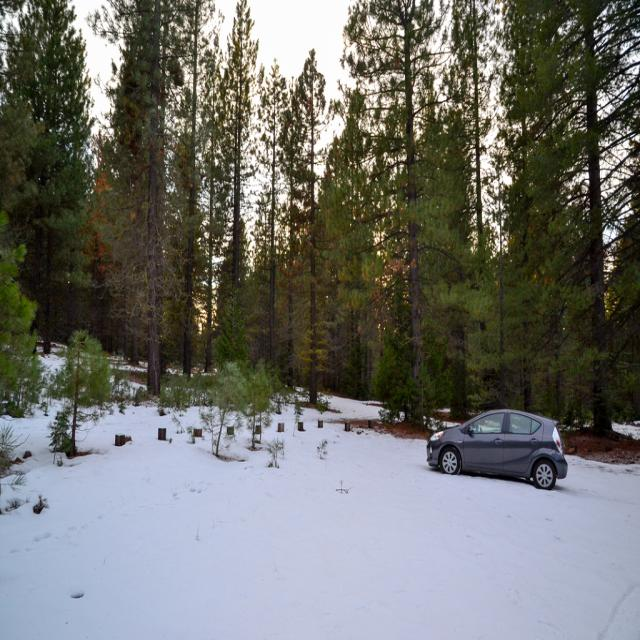car: (423, 401, 569, 490)
